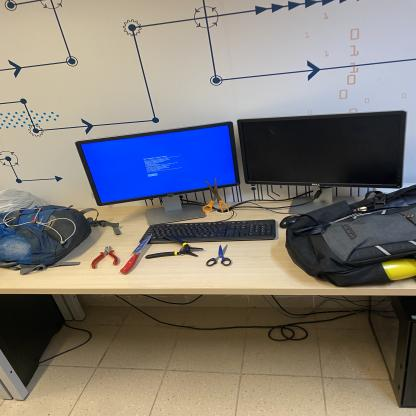Knife: (120, 233, 153, 275)
scissors: (292, 209, 362, 236), (202, 177, 230, 213), (205, 245, 232, 268)
